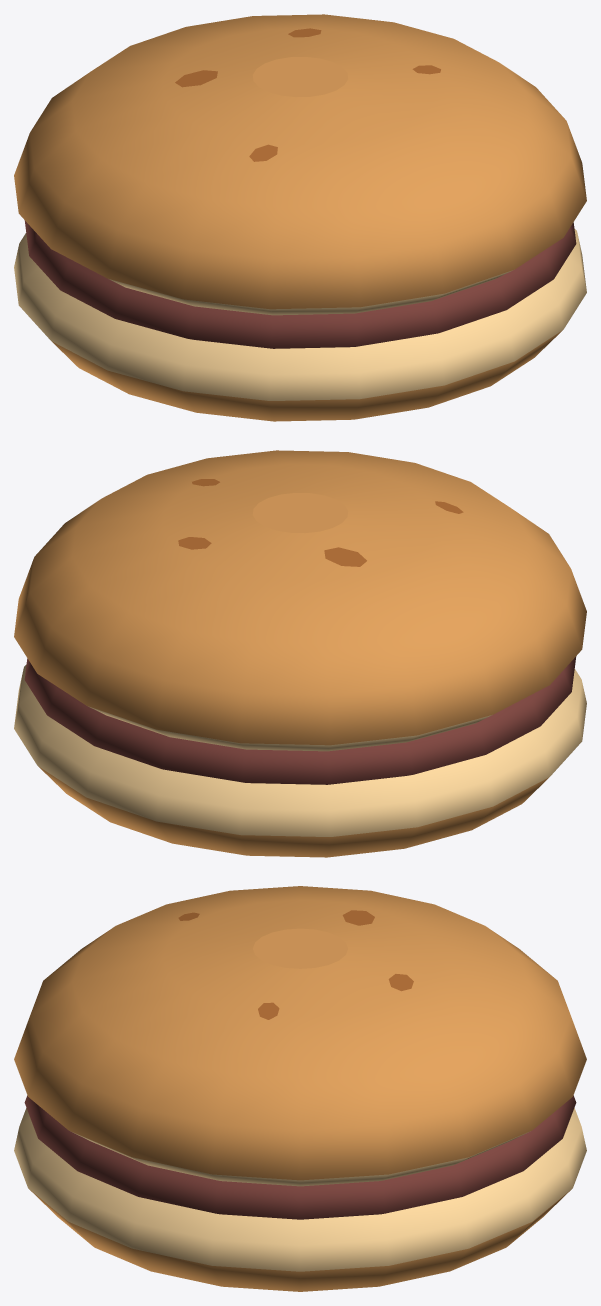
File: symbol_dorayaki.glb
3 renders of one model, top to bottom at view 1: azimuth 30°, elevation 25°; view 2: azimuth 150°, elevation 25°; view 3: azimuth 270°, elevation 25°, orthographic.
Parts seen in each view (by area): view 1: SYMBOL_dorayaki_MOBP_dorayaki_upper_pancake, SYMBOL_dorayaki_MOBP_dorayaki_lower_pancake, SYMBOL_dorayaki_MOBP_dorayaki_redbean_filling; view 2: SYMBOL_dorayaki_MOBP_dorayaki_upper_pancake, SYMBOL_dorayaki_MOBP_dorayaki_lower_pancake, SYMBOL_dorayaki_MOBP_dorayaki_redbean_filling, SYMBOL_dorayaki_MOBP_dorayaki_toast_0; view 3: SYMBOL_dorayaki_MOBP_dorayaki_upper_pancake, SYMBOL_dorayaki_MOBP_dorayaki_lower_pancake, SYMBOL_dorayaki_MOBP_dorayaki_redbean_filling.
Part boxes in pixels (x1,y1,x2,y2): SYMBOL_dorayaki_MOBP_dorayaki_upper_pancake: [14, 14, 586, 315]; SYMBOL_dorayaki_MOBP_dorayaki_lower_pancake: [14, 228, 586, 421]; SYMBOL_dorayaki_MOBP_dorayaki_redbean_filling: [24, 220, 576, 348]; SYMBOL_dorayaki_MOBP_dorayaki_upper_pancake: [14, 450, 586, 751]; SYMBOL_dorayaki_MOBP_dorayaki_lower_pancake: [14, 664, 586, 857]; SYMBOL_dorayaki_MOBP_dorayaki_redbean_filling: [24, 656, 576, 784]; SYMBOL_dorayaki_MOBP_dorayaki_toast_0: [324, 547, 366, 566]; SYMBOL_dorayaki_MOBP_dorayaki_upper_pancake: [14, 886, 586, 1186]; SYMBOL_dorayaki_MOBP_dorayaki_lower_pancake: [14, 1108, 586, 1291]; SYMBOL_dorayaki_MOBP_dorayaki_redbean_filling: [24, 1095, 576, 1219].
Bounding box in the file's own units: 0.108 × 0.052 × 0.108.
